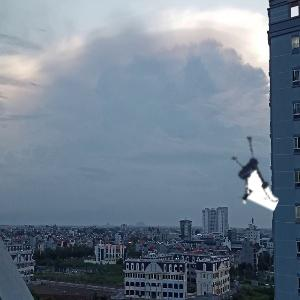drone: (215, 129, 292, 206)
